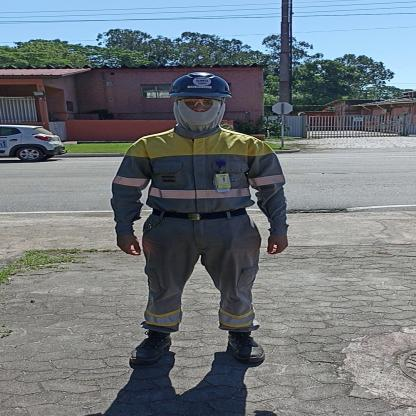Balaclava: (170, 97, 230, 133)
Capacete: (167, 68, 232, 96)
